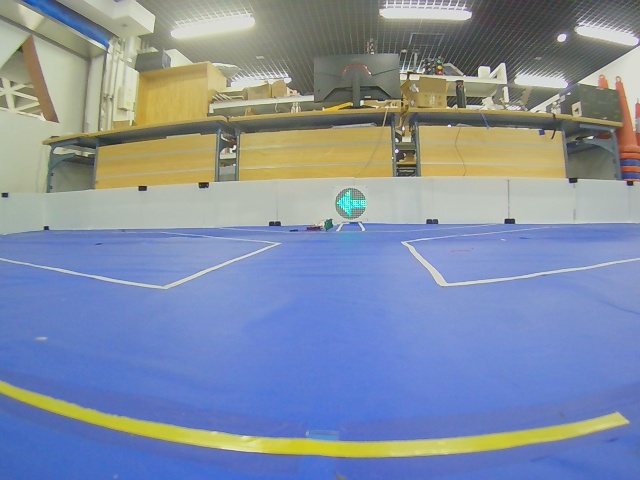left_green: (335, 188, 367, 220)
